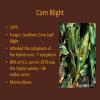Corn leaf blight: (59, 46, 74, 76)
